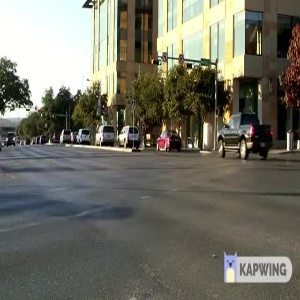car: (151, 124, 186, 154)
suv: (114, 123, 142, 151), (92, 123, 119, 151), (75, 126, 94, 145)
truck: (211, 112, 282, 165)
